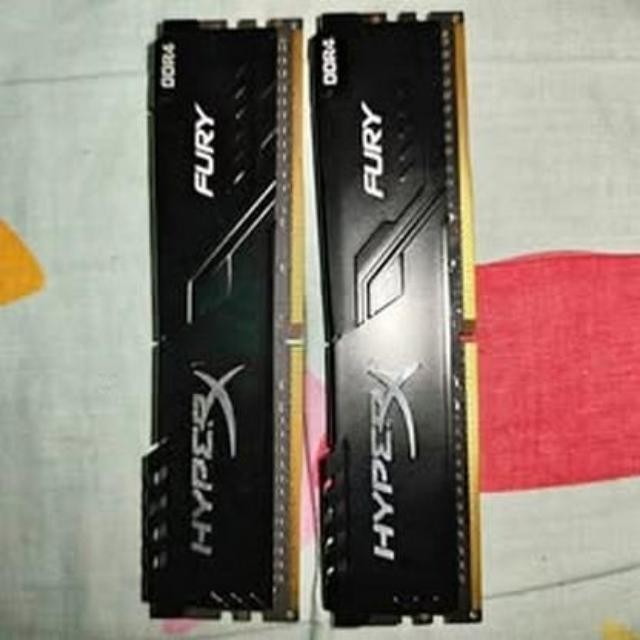RAM: (307, 10, 487, 635), (140, 12, 308, 626)
